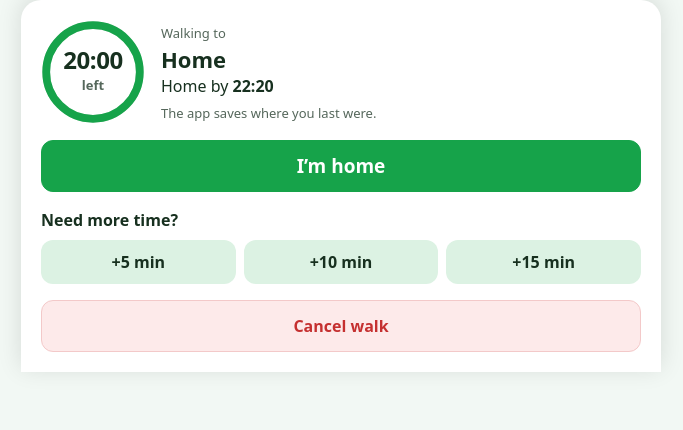
Test: shows a message and lets the user try again when the check-in fails
Click the button "I’m home" at (341, 166), box [41,140,641,192]
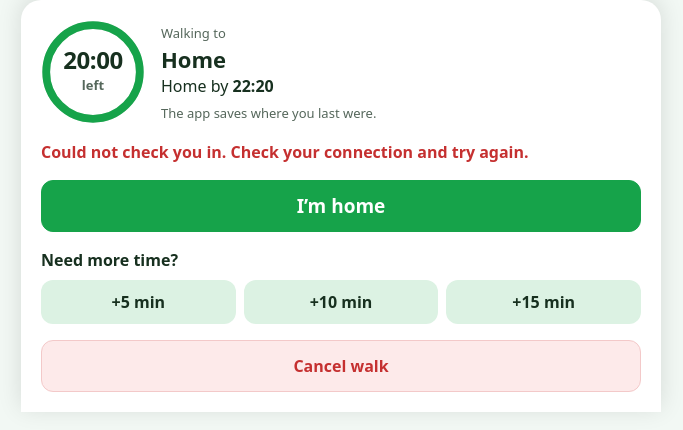
Expected: the button "I’m home" is enabled, [41,180,641,232]
Expected: the message shows "Could not check you in.", [41,141,529,163]
